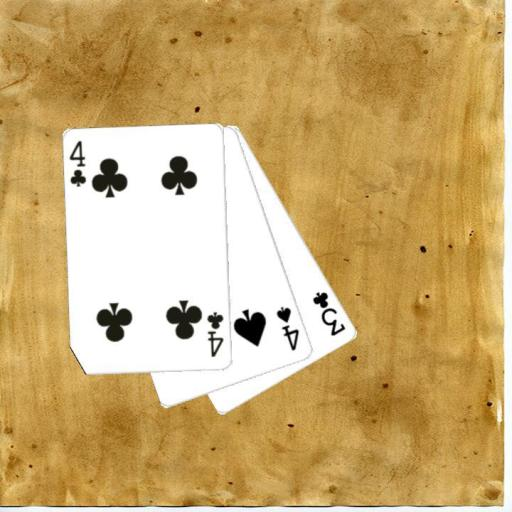3C: (309, 289, 348, 338)
4C: (66, 137, 88, 189), (204, 309, 226, 359)
4S: (273, 304, 302, 353)
